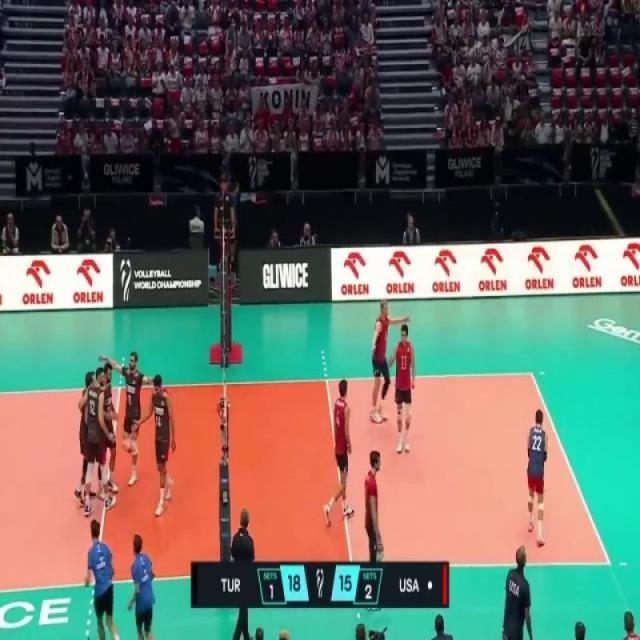volleyball: (530, 108, 537, 120)
